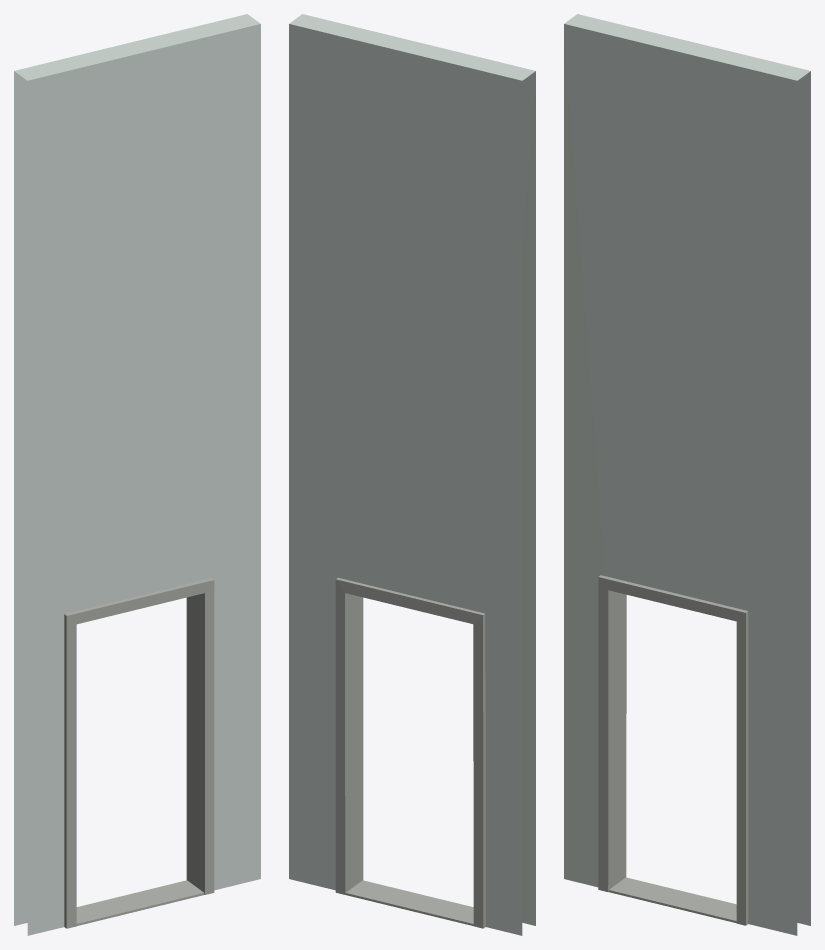
Rendered from SM_Outer_DoorFrame_A2_200.fbx.
3 renders of one model, left to right at view 1: azimuth 30°, elevation 25°; view 2: azimuth 150°, elevation 25°; view 3: azimuth 330°, elevation 25°, orthographic.
Parts seen in each view (by area): view 1: SM_Outer_DoorFrame_A2_200; view 2: SM_Outer_DoorFrame_A2_200; view 3: SM_Outer_DoorFrame_A2_200.
Part boxes in pixels (<box>): SM_Outer_DoorFrame_A2_200: <box>14,14,260,935</box>; SM_Outer_DoorFrame_A2_200: <box>289,14,535,935</box>; SM_Outer_DoorFrame_A2_200: <box>564,14,810,935</box>.
Bounding box in the file's own units: 200 × 700 × 27.36.
Materials: 3 (3 with a texture image).
